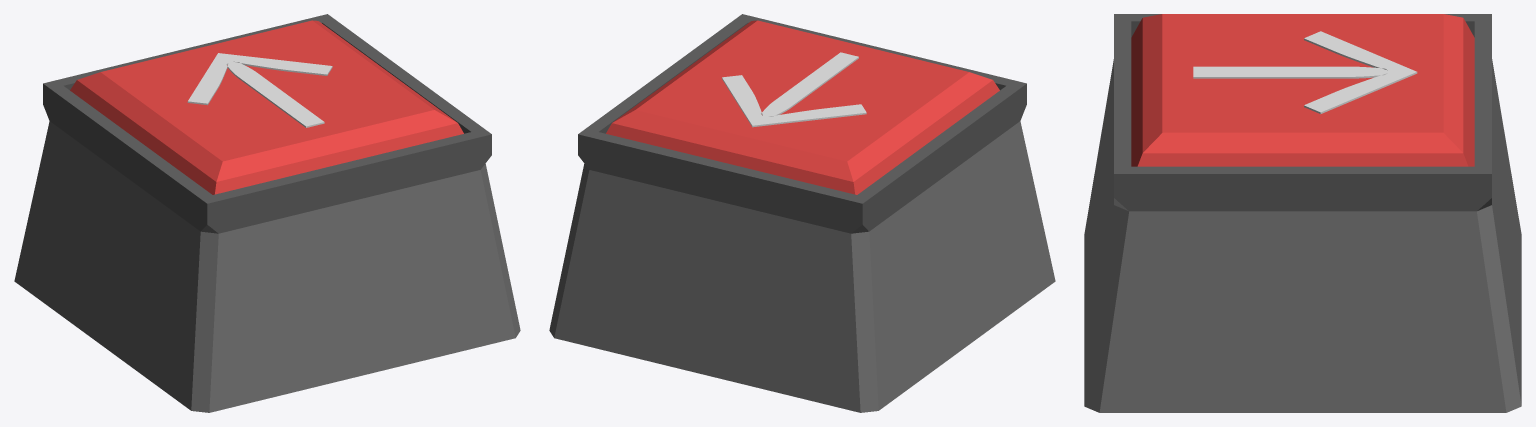
Rendered from Button.fbx.
3 renders of one model, left to right at view 1: azimuth 30°, elevation 25°; view 2: azimuth 150°, elevation 25°; view 3: azimuth 270°, elevation 25°, orthographic. The views are drawn at different scales.
Visible parts, largest first — view 1: BaseTop, ButtonTop, ArrowTop; view 2: BaseTop, ButtonTop, ArrowTop; view 3: BaseTop, ButtonTop, ArrowTop.
Part boxes in pixels (x1,y1,x2,y2): BaseTop: (14, 14, 520, 412); ButtonTop: (70, 20, 463, 194); ArrowTop: (187, 53, 332, 127); BaseTop: (549, 14, 1055, 412); ButtonTop: (606, 20, 999, 194); ArrowTop: (722, 52, 866, 127); BaseTop: (1084, 14, 1521, 412); ButtonTop: (1131, 14, 1474, 166); ArrowTop: (1193, 31, 1417, 113).
Bounding box in the file's own units: 58.67 × 36.88 × 58.67.
